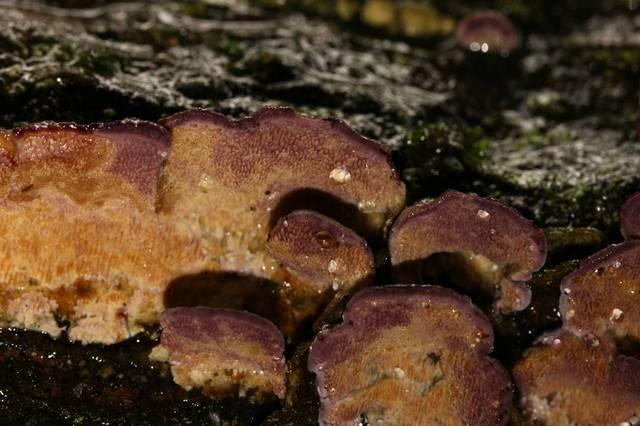Non-edible Mushroom: (0, 103, 407, 345), (306, 281, 515, 424), (386, 187, 548, 314), (149, 304, 289, 403)
